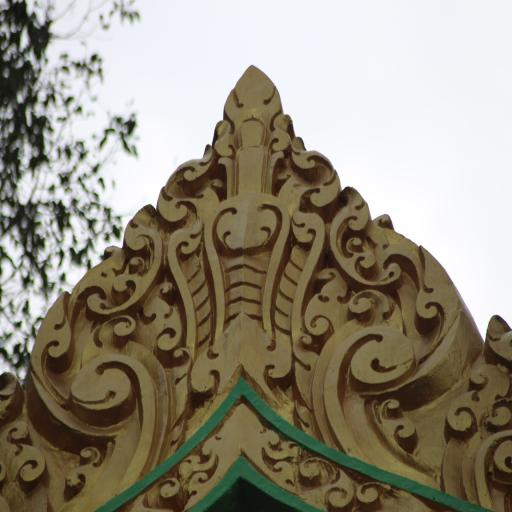la: (162, 60, 319, 404), (319, 190, 449, 487), (35, 221, 162, 509), (445, 299, 512, 512)
